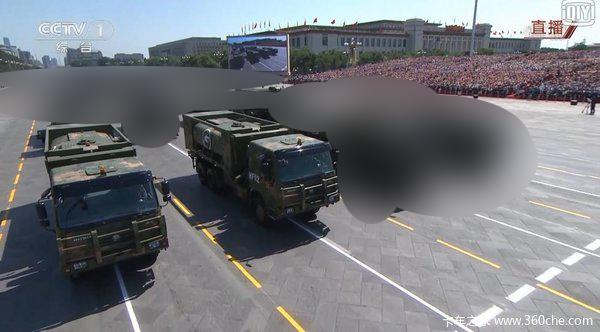truck: (31, 123, 172, 294), (178, 108, 342, 228)
